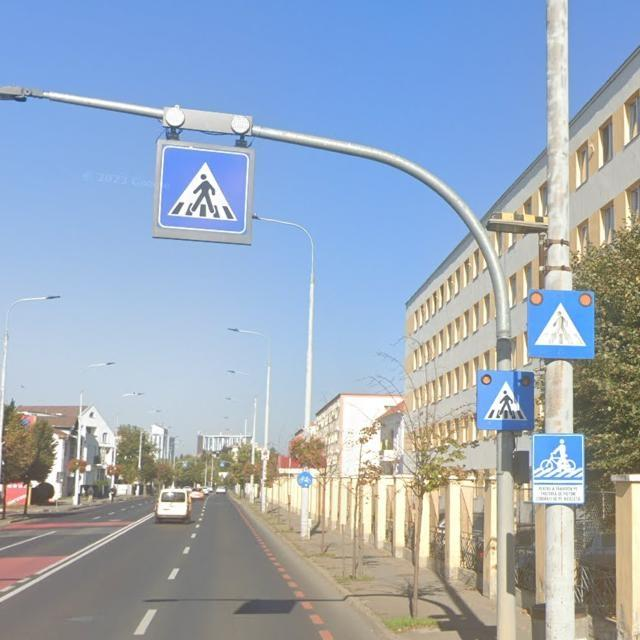info_crosswalk: (152, 138, 254, 247), (526, 289, 596, 361), (477, 367, 536, 429)
